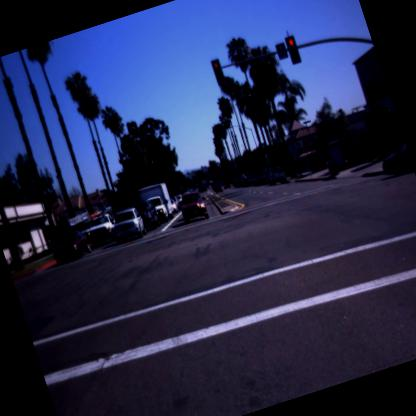trafficlight: (280, 28, 306, 70), (209, 54, 231, 86)
